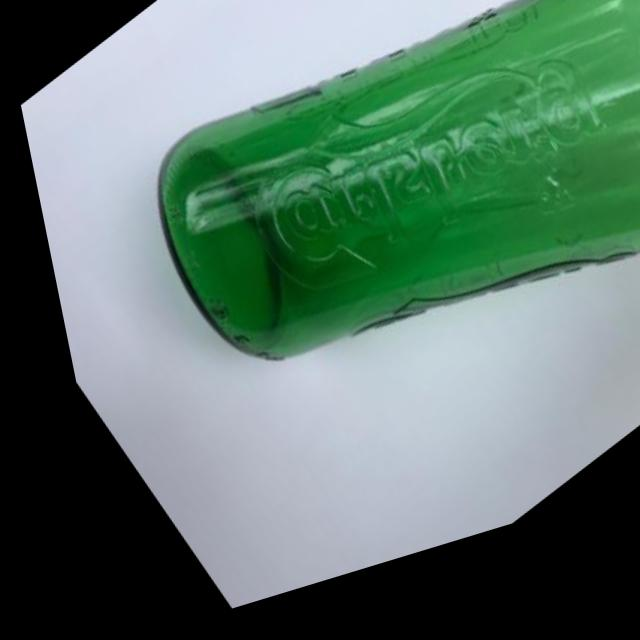glass: (29, 0, 640, 626)
